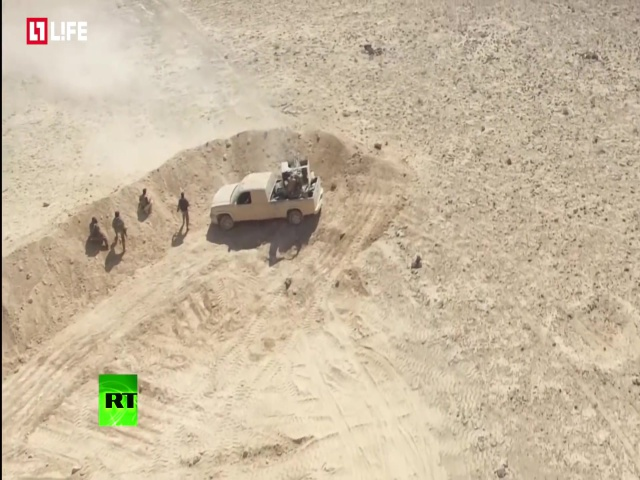person: (108, 208, 128, 258), (85, 215, 109, 249), (176, 190, 193, 235), (137, 185, 153, 217)
vehicle: (205, 168, 328, 225)
